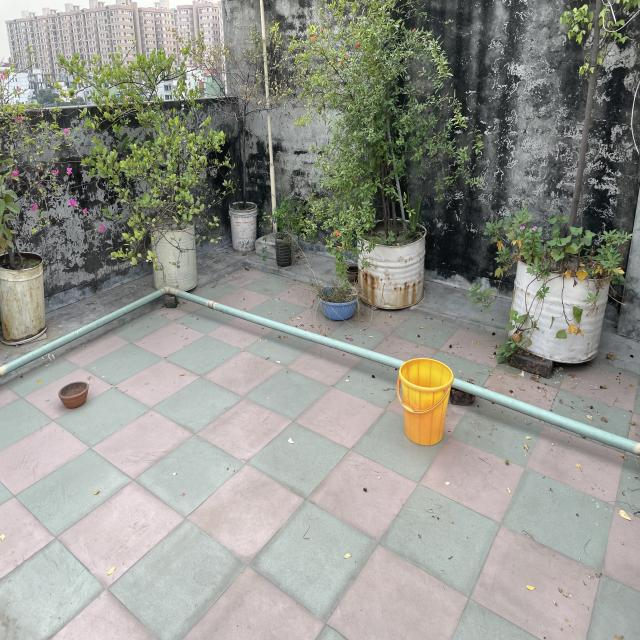Breeding Place: (516, 226, 605, 370), (358, 221, 429, 311), (0, 242, 50, 347), (146, 210, 200, 298), (403, 360, 451, 453), (230, 198, 260, 258), (320, 286, 363, 325), (56, 379, 98, 407)
